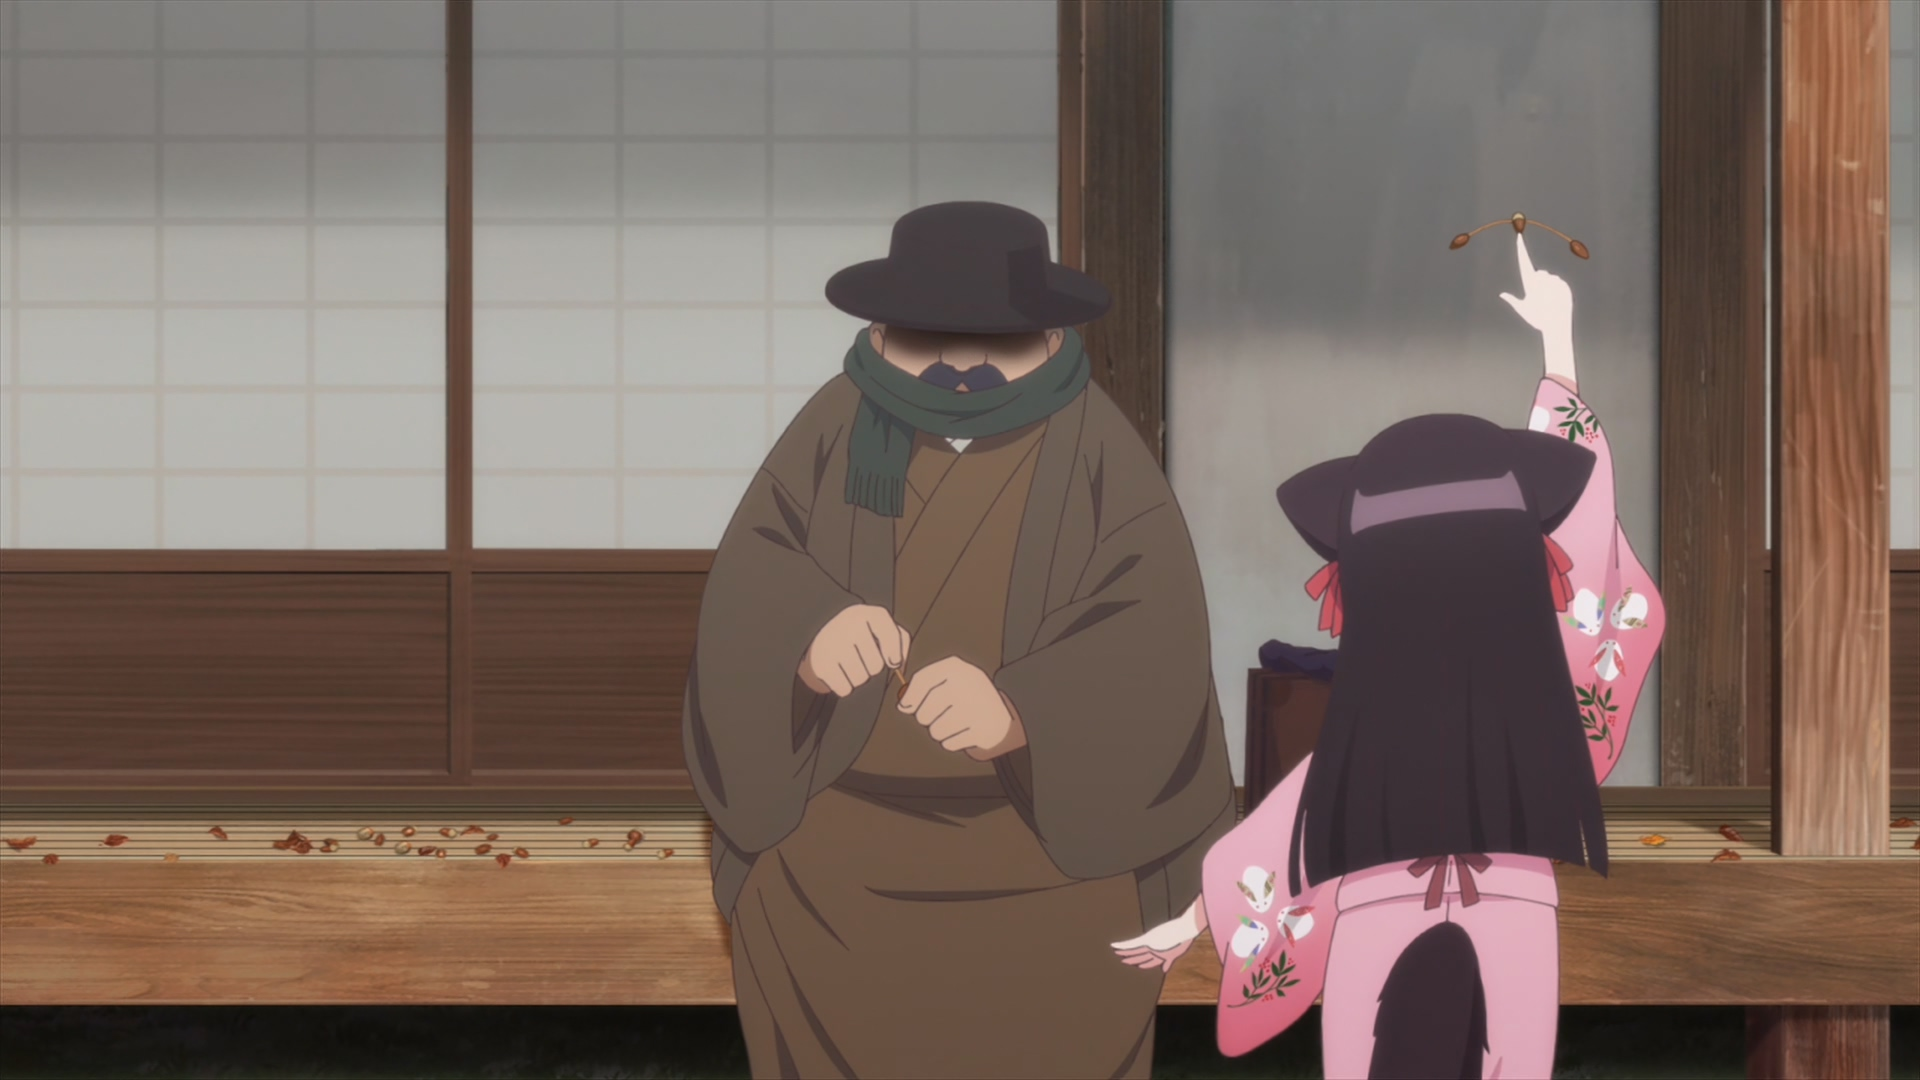其他: (683, 200, 1237, 1080)
樱: (1112, 231, 1667, 1080)
